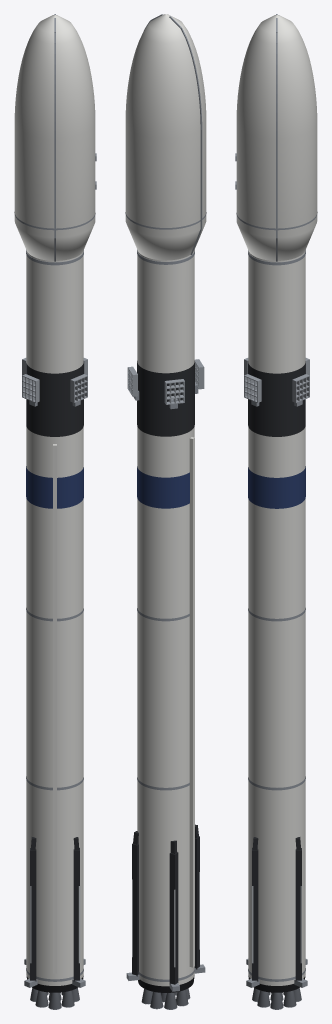
File: ride-gto.glb
3 renders of one model, left to right at view 1: azimuth 90°, elevation 25°; view 2: azimuth 150°, elevation 25°; view 3: azimuth 270°, elevation 25°, orthographic.
Visible parts, largest first — view 1: stage-1, fairing, stage-2, interstage, landing-legs-rocket_white, landing-legs-carbon, stage-1-bands-paint_navy, grid-fins-titanium, fairing-seams-aluminium_dark, stage-1-bands-aluminium_dark, landing-legs-aluminium, heat-shield (+1 smaller); view 2: stage-1, fairing, stage-2, interstage, landing-legs-rocket_white, landing-legs-carbon, stage-1-bands-paint_navy, grid-fins-titanium, fairing-seams-aluminium_dark, stage-1-bands-aluminium_dark, heat-shield, landing-legs-aluminium (+1 smaller); view 3: stage-1, fairing, stage-2, interstage, landing-legs-carbon, stage-1-bands-paint_navy, grid-fins-titanium, fairing-seams-aluminium_dark, stage-1-bands-aluminium_dark, landing-legs-aluminium, heat-shield, landing-legs-aluminium_dark.
Part boxes in pixels (x1,y1,x2,y2): stage-1: (26,427,83,985); fairing: (14,15,95,260); stage-2: (26,250,83,373); interstage: (26,361,83,436); landing-legs-rocket_white: (53,444,56,973); landing-legs-carbon: (30,837,79,981); stage-1-bands-paint_navy: (26,466,83,508); grid-fins-titanium: (22,358,87,402); fairing-seams-aluminium_dark: (14,14,96,261); stage-1-bands-aluminium_dark: (26,608,83,981); landing-legs-aluminium: (30,886,80,963); heat-shield: (26,976,83,992); stage-1: (137,427,194,986); fairing: (125,14,206,260); stage-2: (137,250,194,373); interstage: (137,361,194,436); landing-legs-rocket_white: (189,437,194,967); landing-legs-carbon: (132,824,199,984); stage-1-bands-paint_navy: (137,466,189,508); grid-fins-titanium: (127,359,204,404); fairing-seams-aluminium_dark: (125,14,206,254); stage-1-bands-aluminium_dark: (137,608,194,981); heat-shield: (138,976,194,992); landing-legs-aluminium: (132,872,199,967); stage-1: (248,427,305,985); fairing: (236,15,317,260); stage-2: (248,250,305,373); interstage: (248,361,305,436); landing-legs-carbon: (252,837,301,981); stage-1-bands-paint_navy: (248,466,305,508); grid-fins-titanium: (244,358,309,402); fairing-seams-aluminium_dark: (235,14,317,261); stage-1-bands-aluminium_dark: (248,608,305,981); landing-legs-aluminium: (251,886,301,963); heat-shield: (248,976,305,992); landing-legs-aluminium_dark: (246,959,307,987).
Size of the model in its own units: 5.33 by 69.91 by 5.28.
